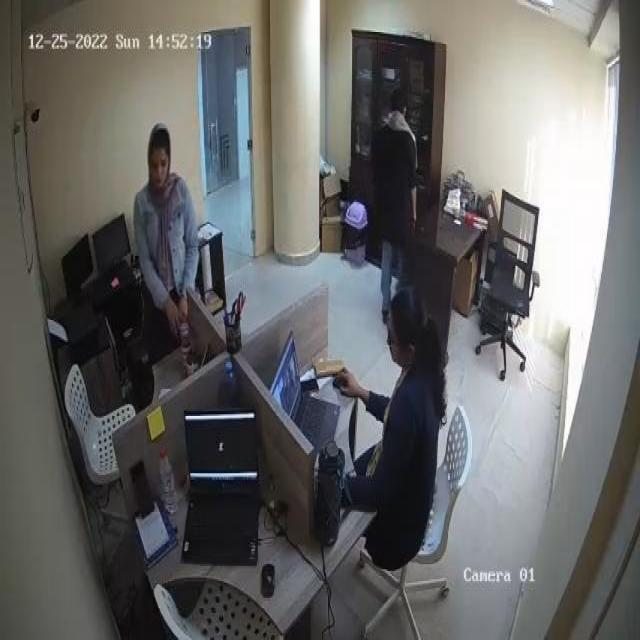bare_hand: (330, 367, 372, 406), (158, 295, 183, 332), (172, 286, 192, 325)
